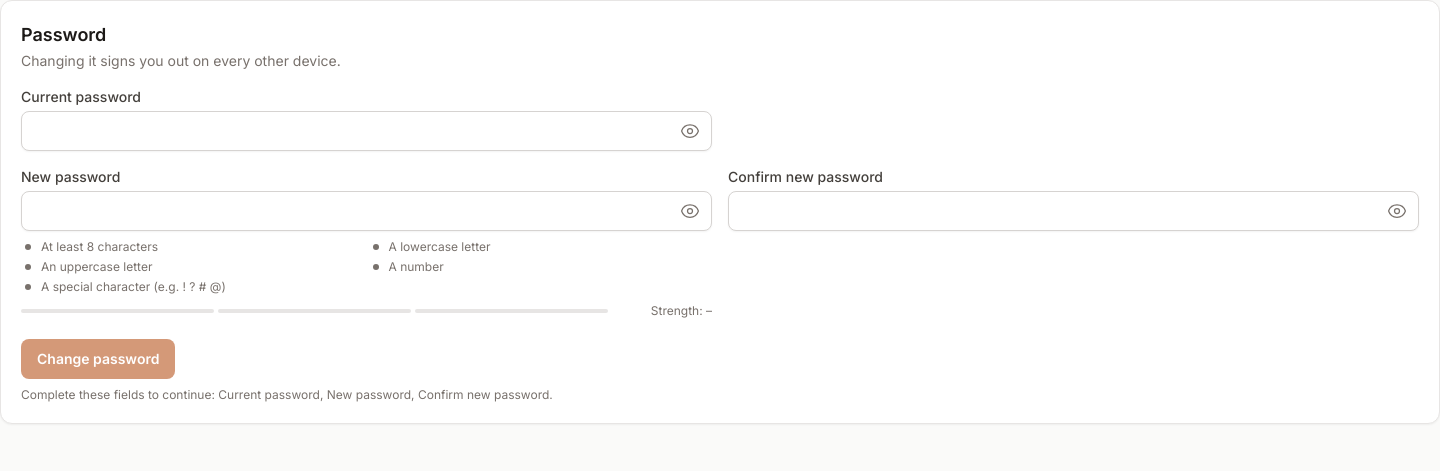
Test case: ChangePasswordForm › shows other server errors above the button
Type "oldpass" into the password field labelled "Current password".
click(366, 131); type("oldpass")  # box [21,111,712,151]
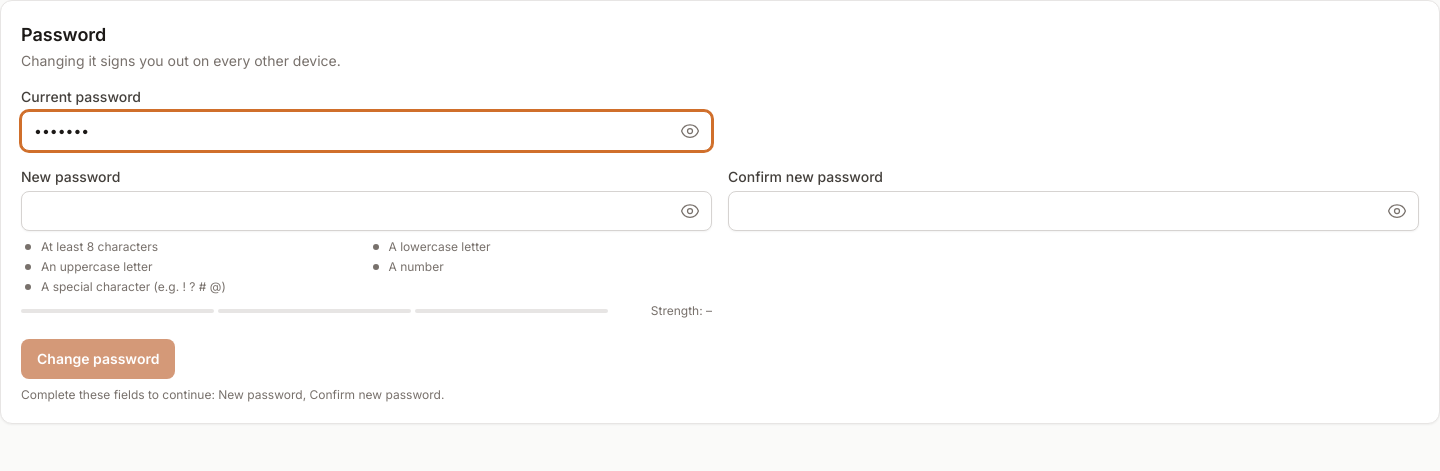
Type "Newpass-12" into the password field labelled "New password".
click(366, 211); type("Newpass-12")  # box [21,191,712,231]
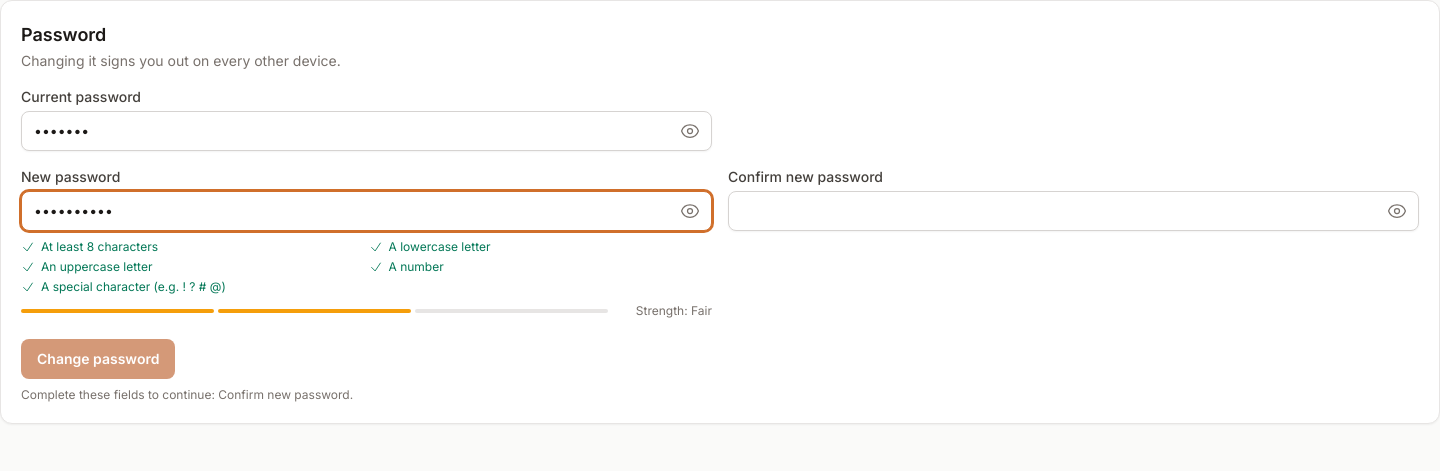
Type "Newpass-12" into the password field labelled "Confirm new password".
click(1074, 211); type("Newpass-12")  # box [728,191,1419,231]
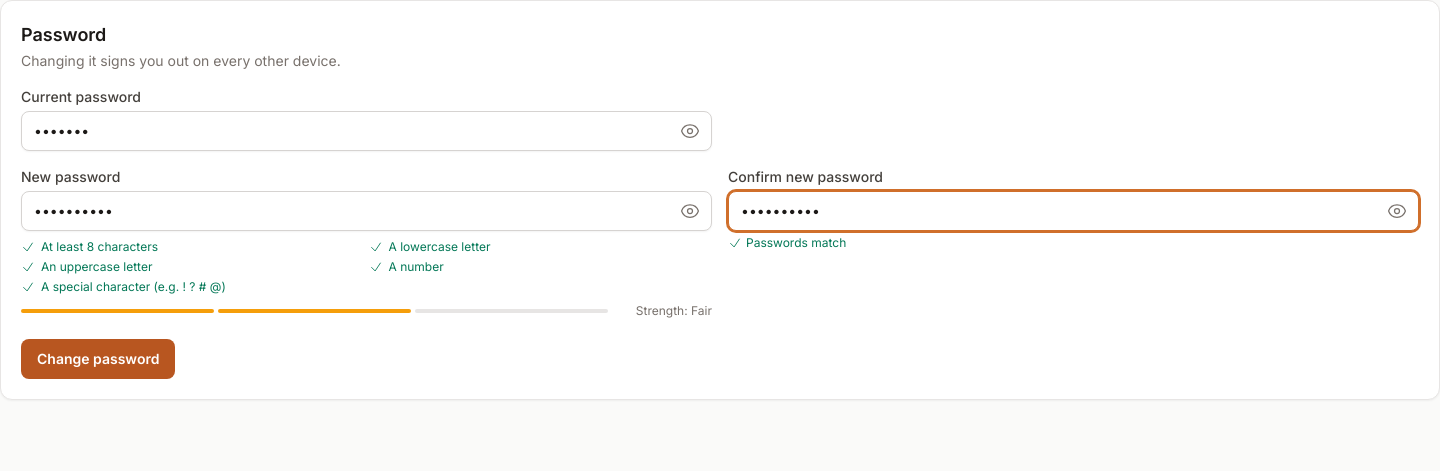
Click the button "Change password".
click(98, 359)  # box [21,339,175,379]
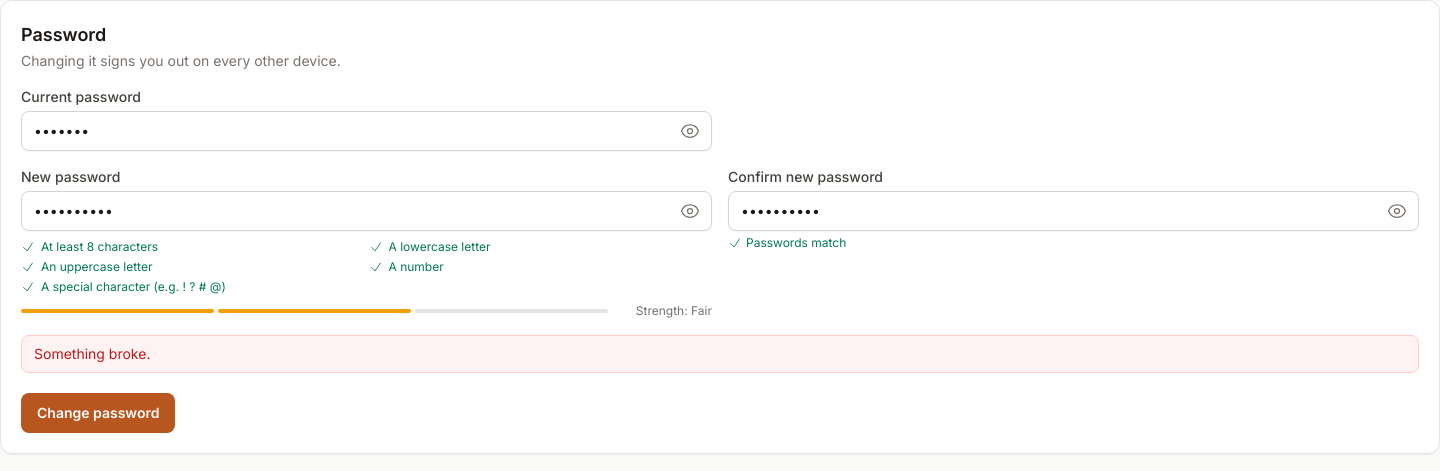
Expected: the message reads "Something broke.", [34,345,150,362]
